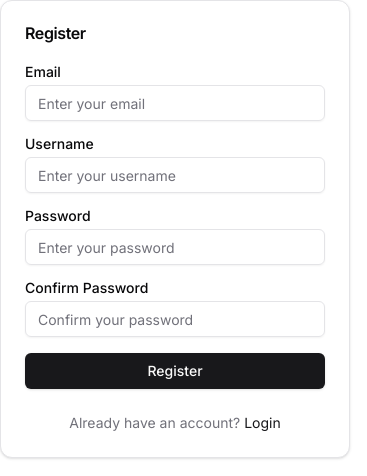
Test: RegisterForm › disables submit button while loading
Type "test@example.com" into the field labelled "Email" at (175, 103), box [25,85,325,121]
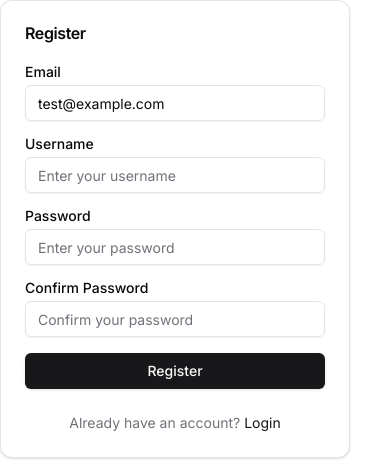
Type "testuser" into the field labelled "Username" at (175, 175), box [25,157,325,193]
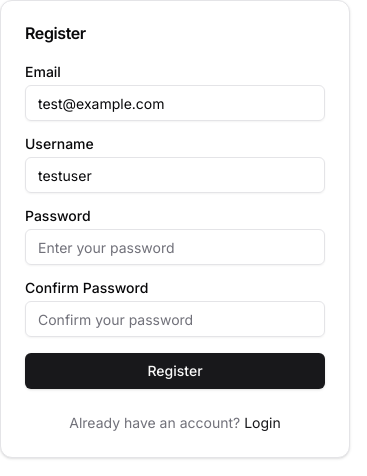
Type "password123" into the password field labelled "Password" at (175, 247), box [25,229,325,265]
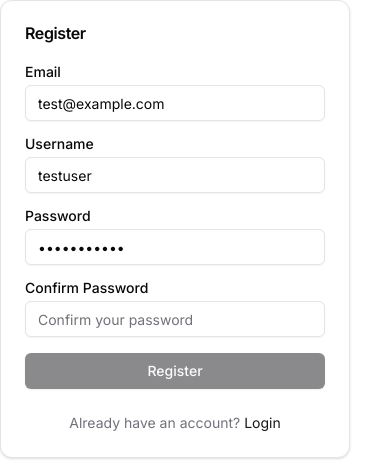
Type "password123" into the password field labelled "Confirm Password" at (175, 319), box [25,301,325,337]
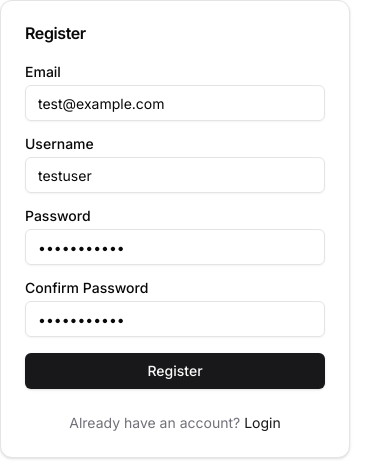
Click the button "Register" at (175, 371), box [25,353,325,389]
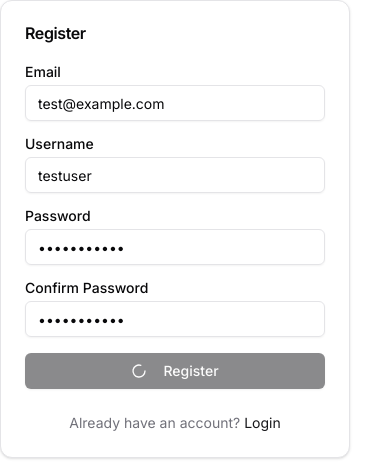
Expected: the button "Register" is disabled, [25,353,325,389]
